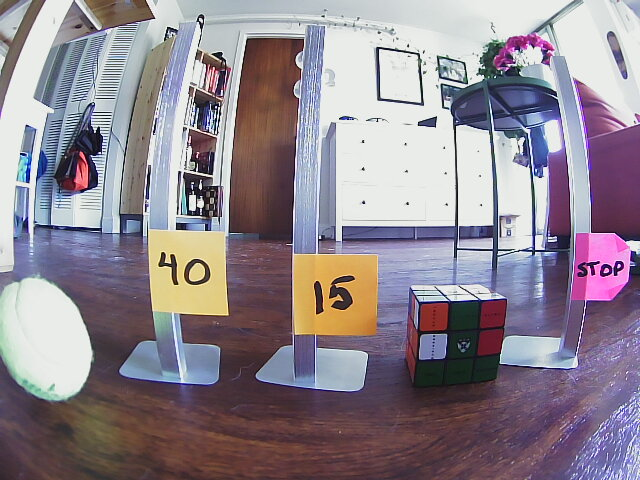15: (293, 256, 376, 333)
40: (146, 231, 224, 313)
ball: (1, 281, 93, 401)
cube: (404, 285, 509, 385)
stop: (574, 232, 630, 300)
